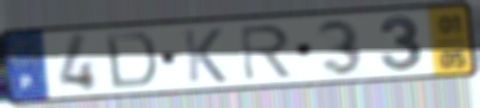3: (315, 17, 366, 77), (377, 13, 425, 74)
4: (54, 30, 100, 96)
D: (102, 30, 161, 92)
K: (180, 27, 230, 85)
R: (237, 22, 295, 83)
